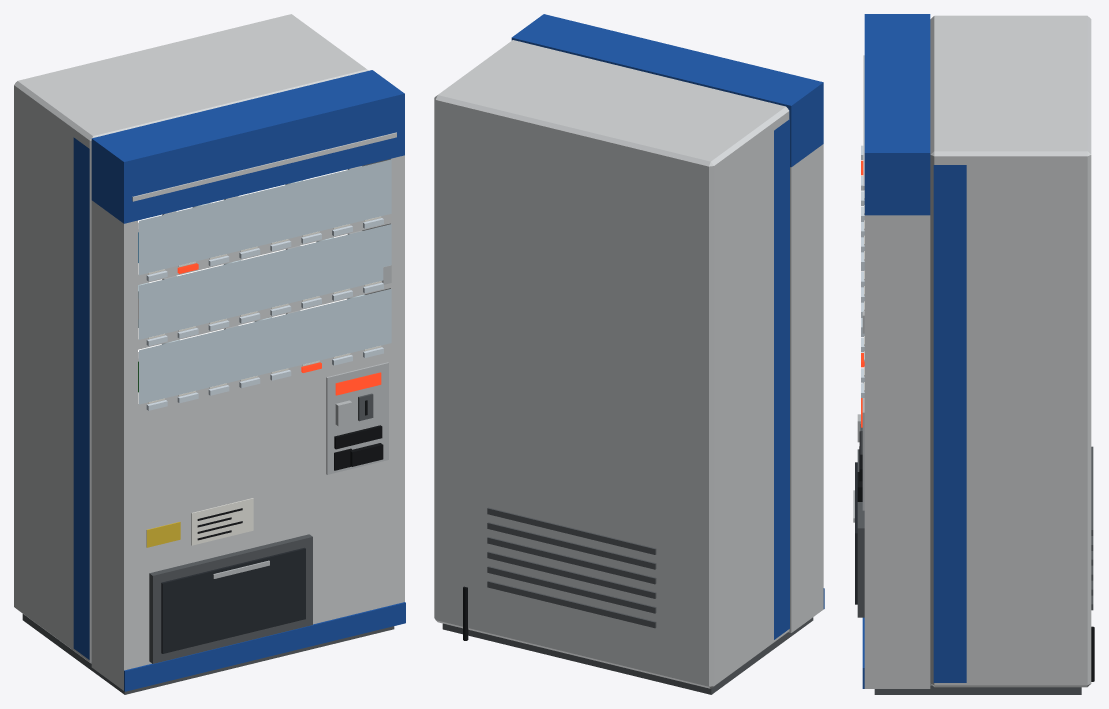
File: vending_machine.glb
The picture shows the model from 3 angles, left to right: view 1: azimuth 30°, elevation 25°; view 2: azimuth 150°, elevation 25°; view 3: azimuth 270°, elevation 25°; orthographic projection.
Parts seen in each view (by area): view 1: vending_machine; view 2: vending_machine; view 3: vending_machine.
Part boxes in pixels (x1,y1,x2,y2): vending_machine: [14, 14, 405, 694]; vending_machine: [434, 14, 824, 694]; vending_machine: [853, 14, 1094, 694].
Size of the model in its own units: 1 by 1.83 by 0.735.
